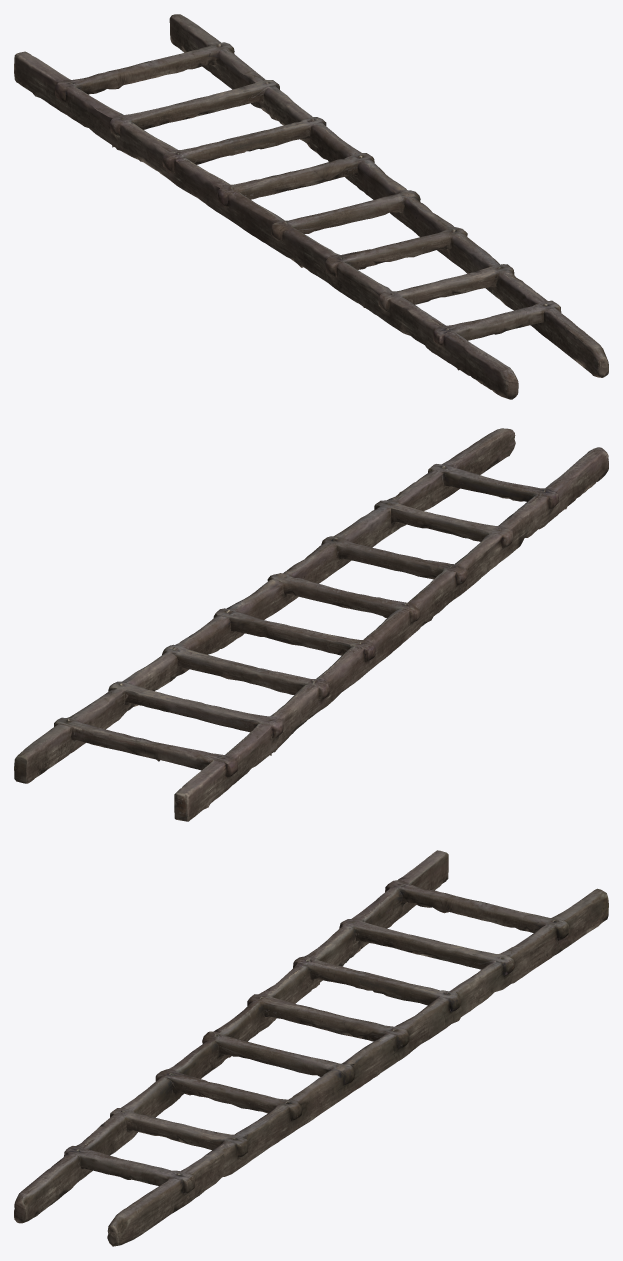
Rendered from MOD_LadderA.fbx.
3 renders of one model, top to bottom at view 1: azimuth 30°, elevation 25°; view 2: azimuth 150°, elevation 25°; view 3: azimuth 330°, elevation 25°, orthographic.
Parts seen in each view (by area): view 1: MOD_LadderA; view 2: MOD_LadderA; view 3: MOD_LadderA.
Boxes of the visible parts, box(x1,y1,x2,y2) form: MOD_LadderA: box(14, 14, 608, 399); MOD_LadderA: box(14, 428, 608, 821); MOD_LadderA: box(14, 850, 608, 1246).
Size of the model in its own units: 60.15 by 11.48 by 271.
